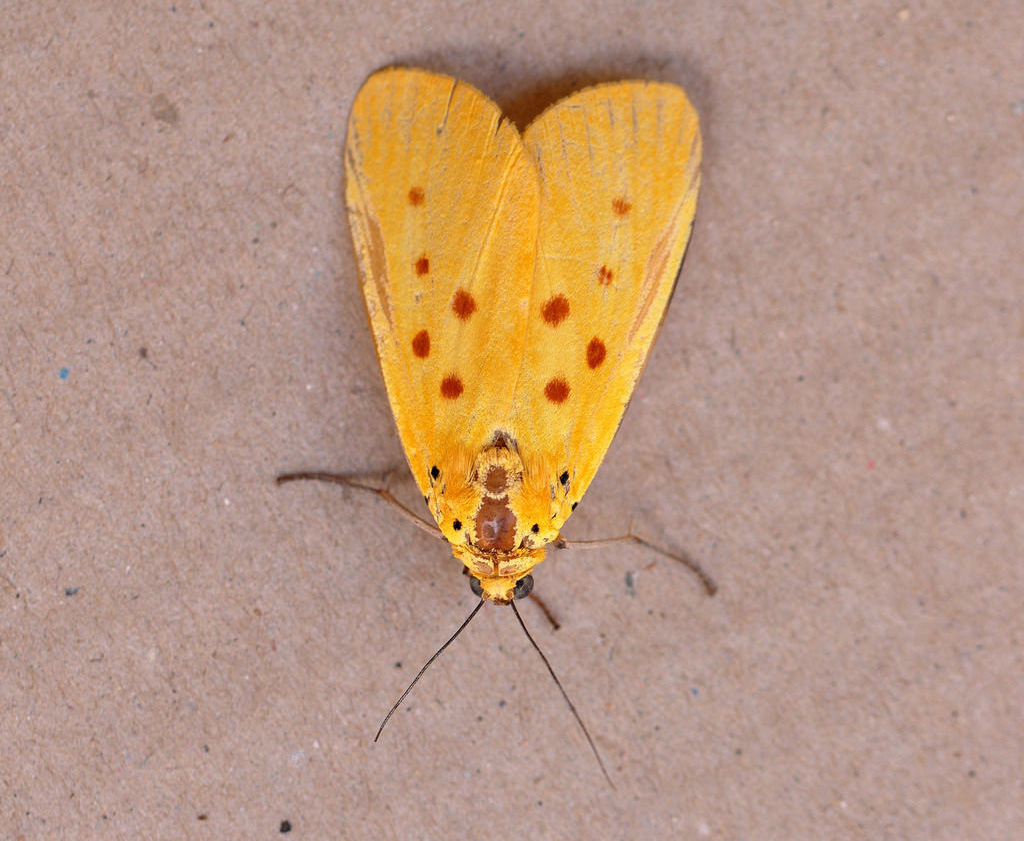Agape chloropyga: (269, 65, 725, 799)
moth: (265, 61, 721, 795)
